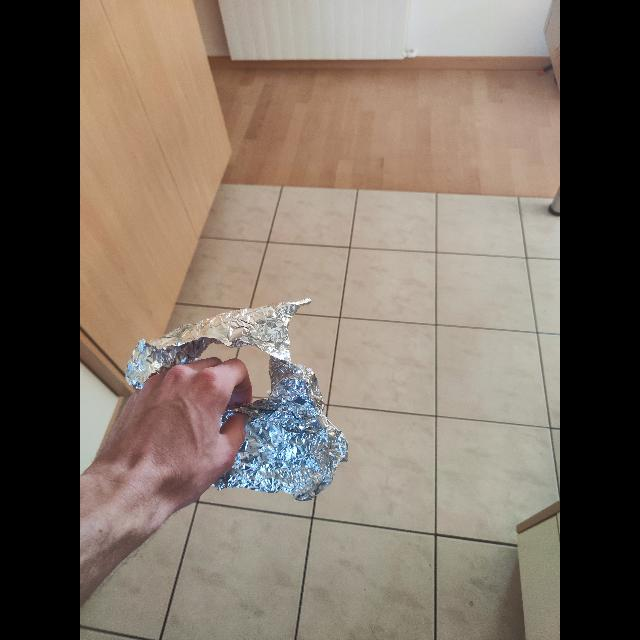Metal: (120, 296, 362, 502)
